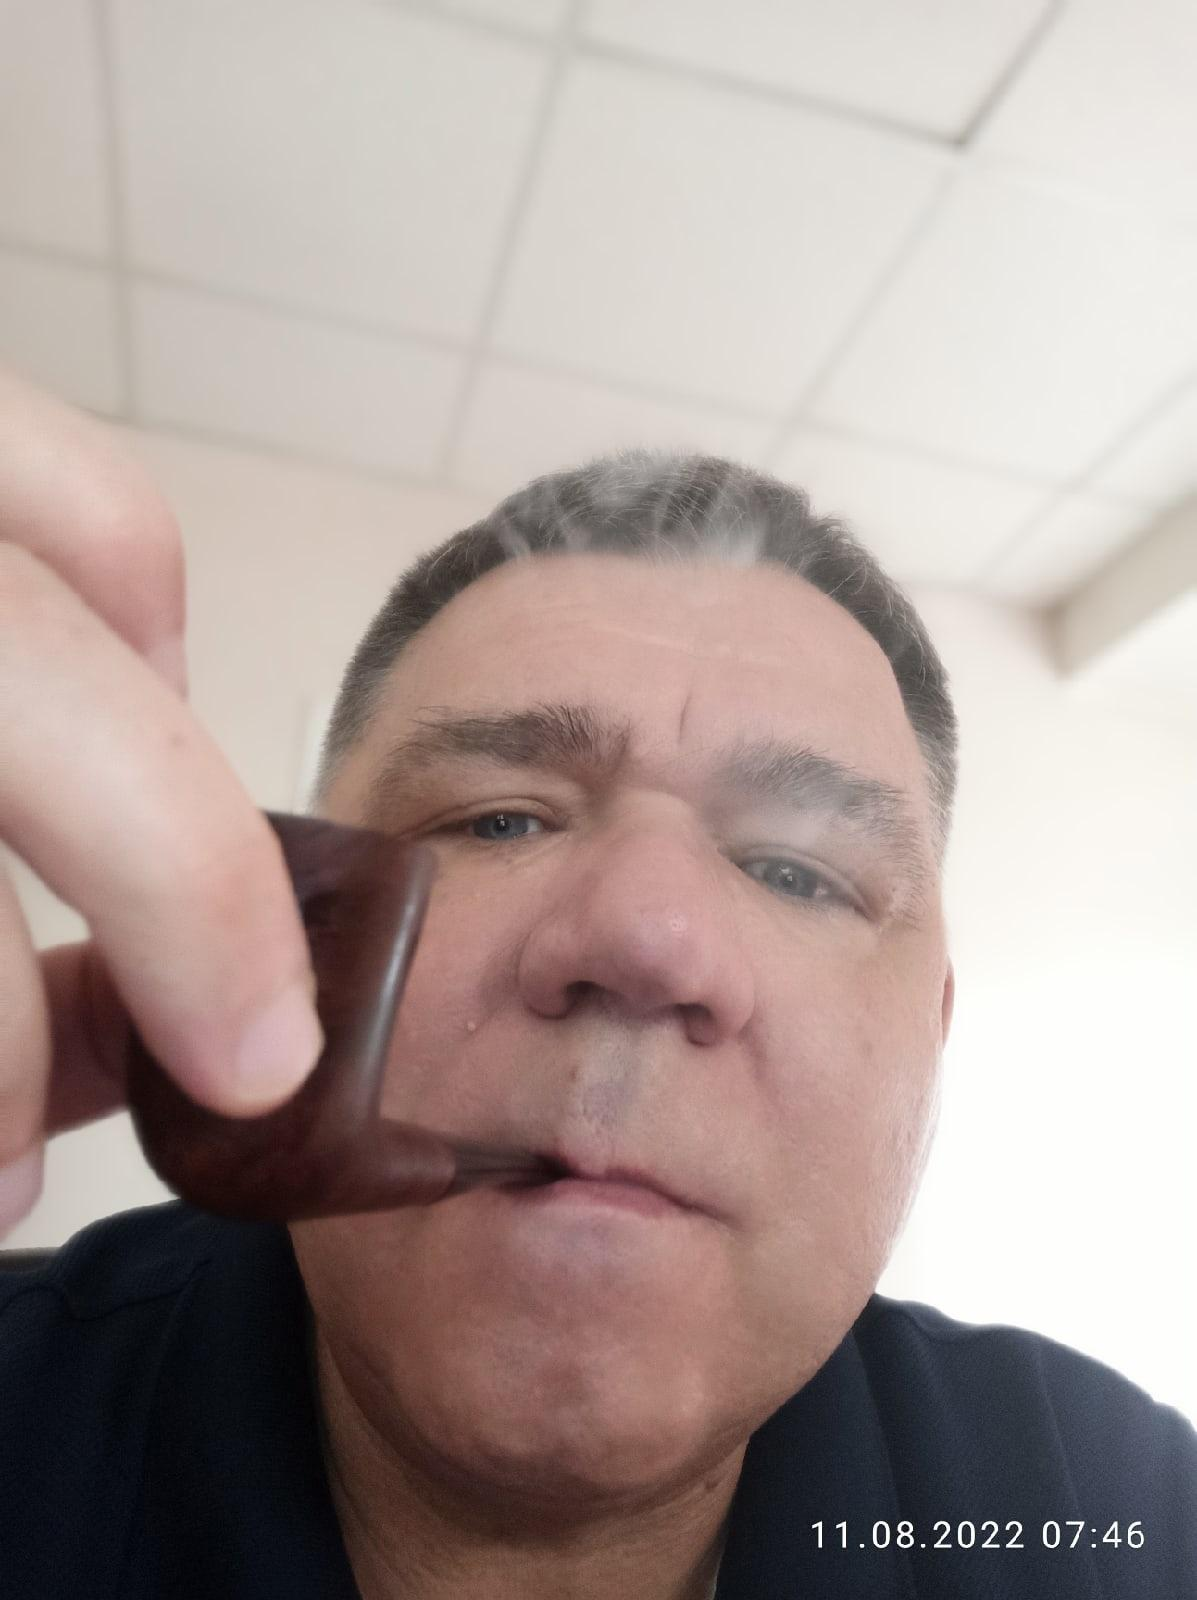trubka: (123, 804, 575, 1230)
